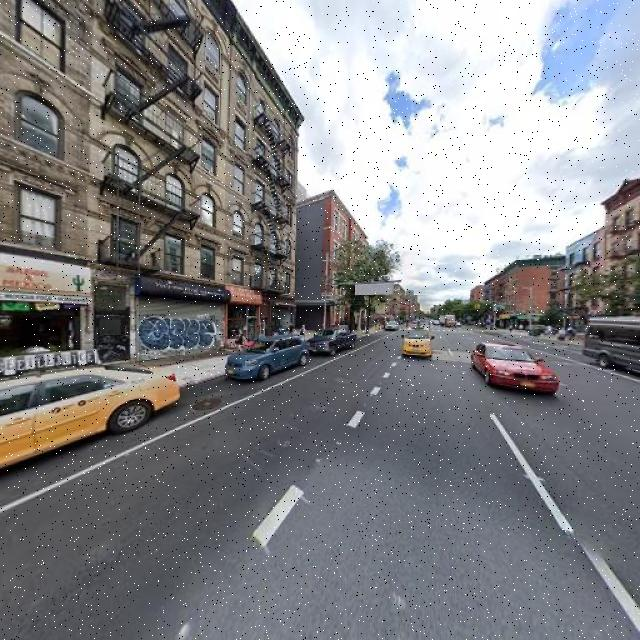Building: (89, 1, 224, 369), (1, 1, 84, 380), (228, 1, 294, 348), (603, 182, 640, 347), (330, 192, 370, 333)
